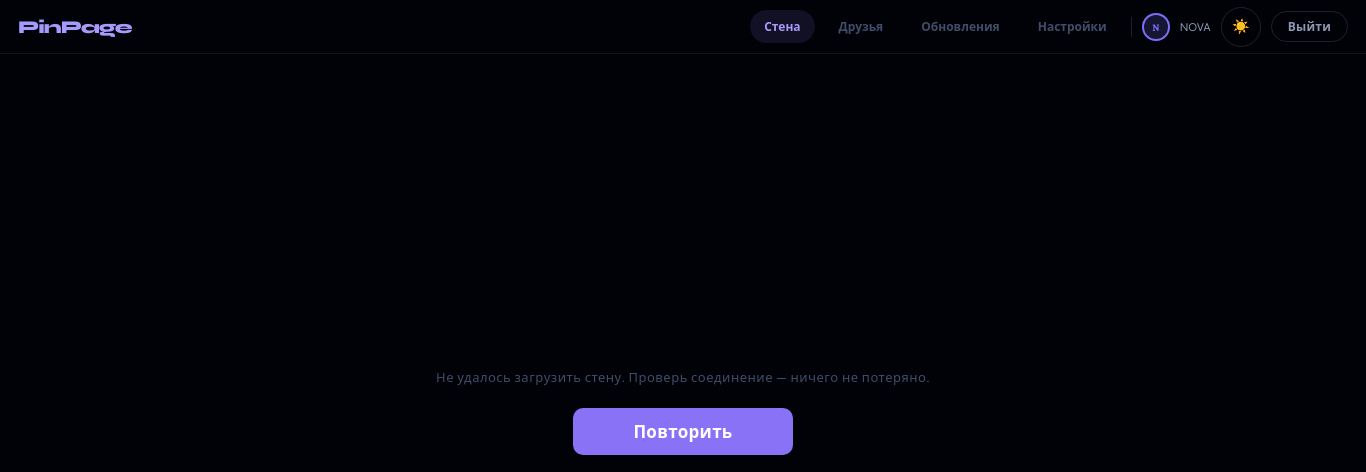
it: надёжность: сбои сети не должны ни разлогинивать, ни затирать данные › стена не загрузилась: показываем ошибку, правка и сохранение недоступны
Expected: the text "Не удалось загрузить стену" is shown, [436,370,930,386]
Click the button "Повторить". click: point(683, 431)
box: [573,408,793,454]
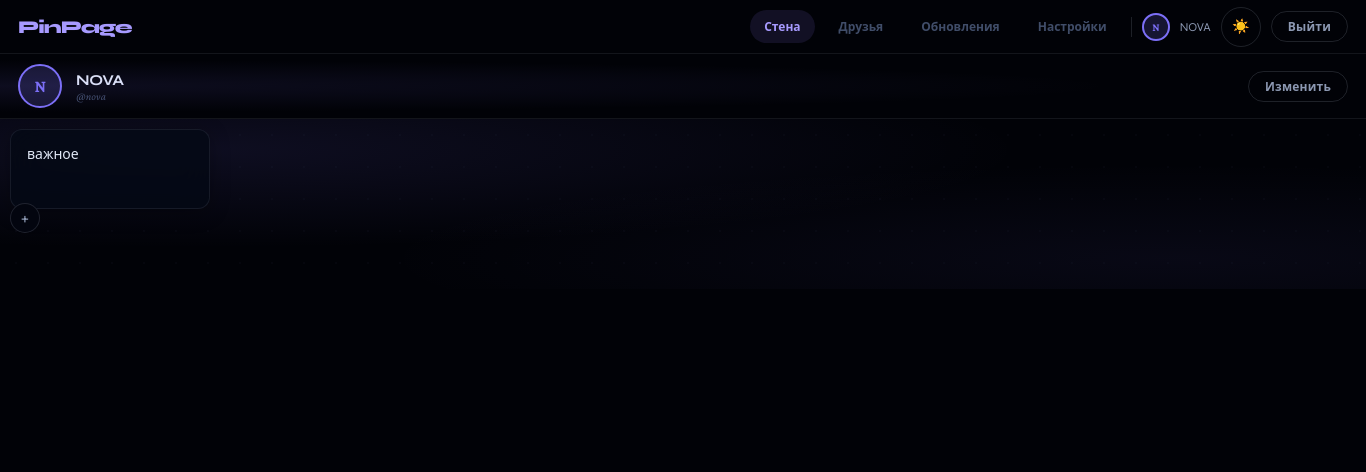
Now the text "важное" is shown, box [27,146,79,163]
